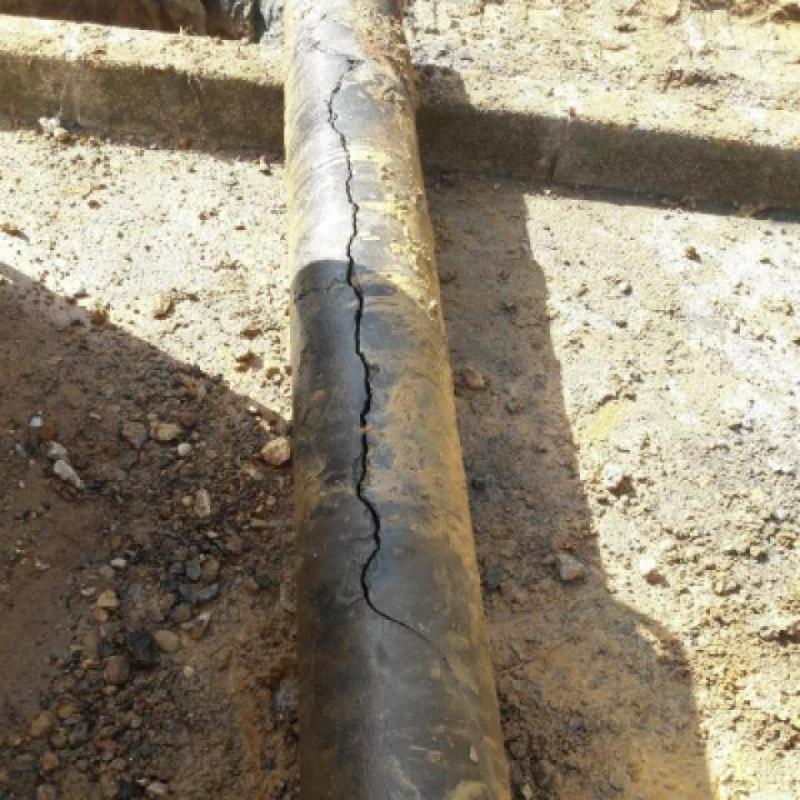Fracture: (328, 52, 410, 620)
